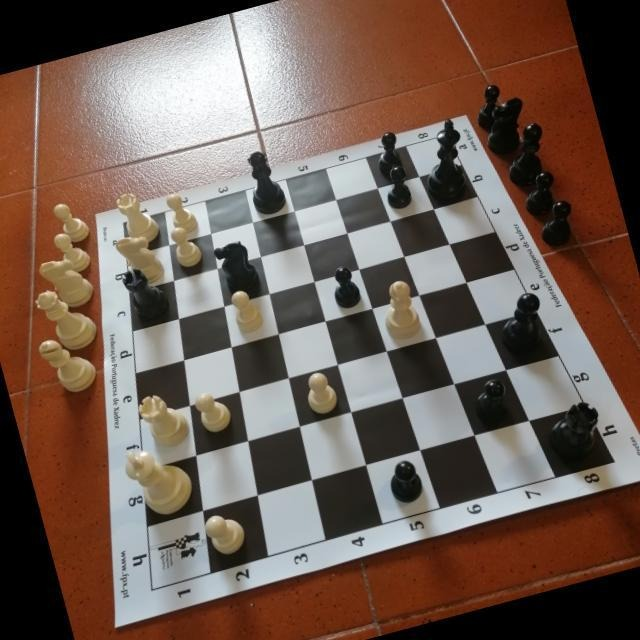black-bishop: (491, 288, 552, 358), (496, 119, 556, 189)
black-king: (411, 115, 477, 205)
black-knight: (476, 93, 534, 159), (212, 237, 262, 295)
black-pawn: (532, 196, 580, 249), (516, 167, 563, 220), (467, 375, 512, 425), (383, 455, 426, 506), (469, 82, 510, 132), (379, 163, 416, 212), (326, 263, 363, 311), (370, 130, 406, 178)
black-queen: (239, 146, 289, 218)
black-rook: (539, 396, 608, 464), (119, 260, 173, 325)
white-bishop: (35, 328, 101, 399), (374, 276, 424, 344)
white-king: (120, 437, 198, 523)
white-knight: (36, 250, 98, 314), (112, 228, 167, 291)
white-pawn: (201, 507, 249, 558), (191, 387, 235, 437), (50, 226, 93, 277), (51, 197, 93, 247), (301, 368, 341, 417), (228, 285, 266, 335), (167, 221, 204, 270), (164, 188, 200, 236)
white-queen: (31, 278, 101, 357)
white-rook: (134, 386, 194, 453), (113, 185, 162, 248)
